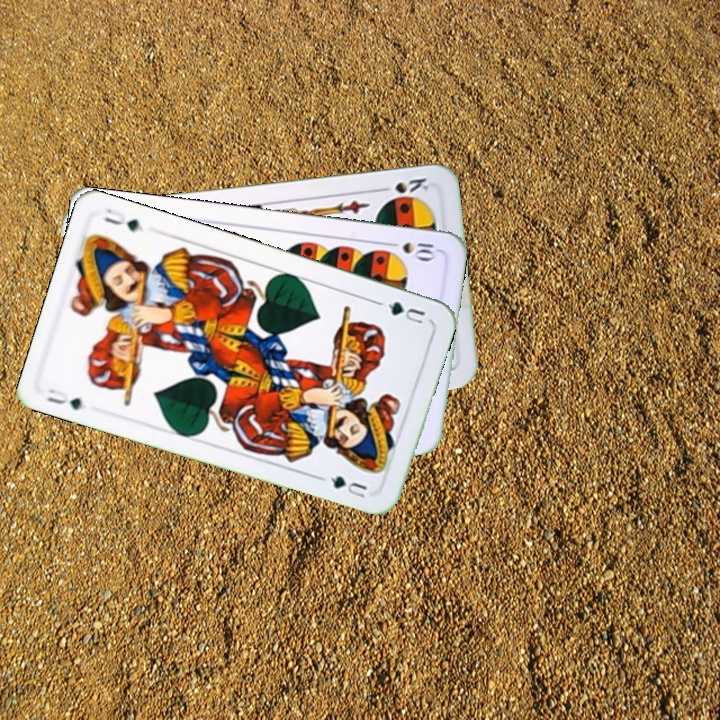GU: (374, 297, 428, 328), (41, 384, 85, 413)
S10: (382, 238, 437, 263)
SK: (374, 174, 431, 196)
